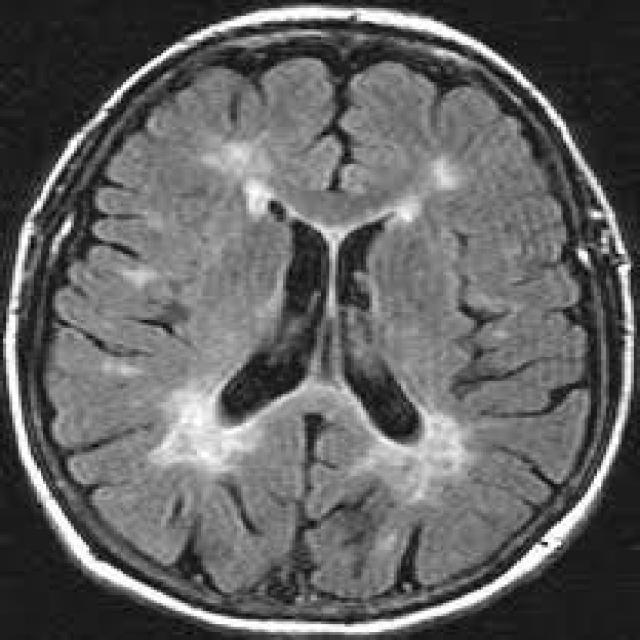notumor: (6, 8, 628, 629)
